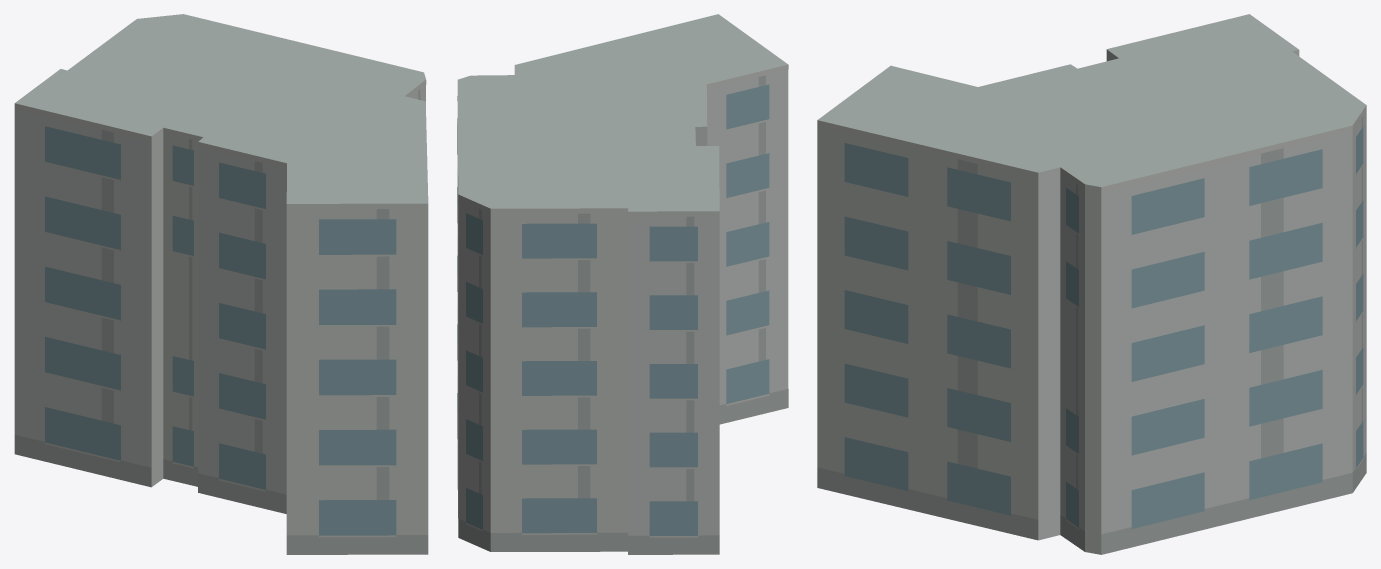
The model's file is survey-upis-32492769.glb.
3 renders of one model, left to right at view 1: azimuth 30°, elevation 25°; view 2: azimuth 150°, elevation 25°; view 3: azimuth 270°, elevation 25°, orthographic. The views are drawn at different scales.
Visible parts, largest first — view 1: survey-upis-32492769.tmp; view 2: survey-upis-32492769.tmp; view 3: survey-upis-32492769.tmp.
Boxes of the visible parts, x1,y1,x2,y2 form: survey-upis-32492769.tmp: (14,14,428,554); survey-upis-32492769.tmp: (457,14,788,554); survey-upis-32492769.tmp: (817,14,1366,554).
Size of the model in its own units: 16.07 by 15.9 by 21.53.
